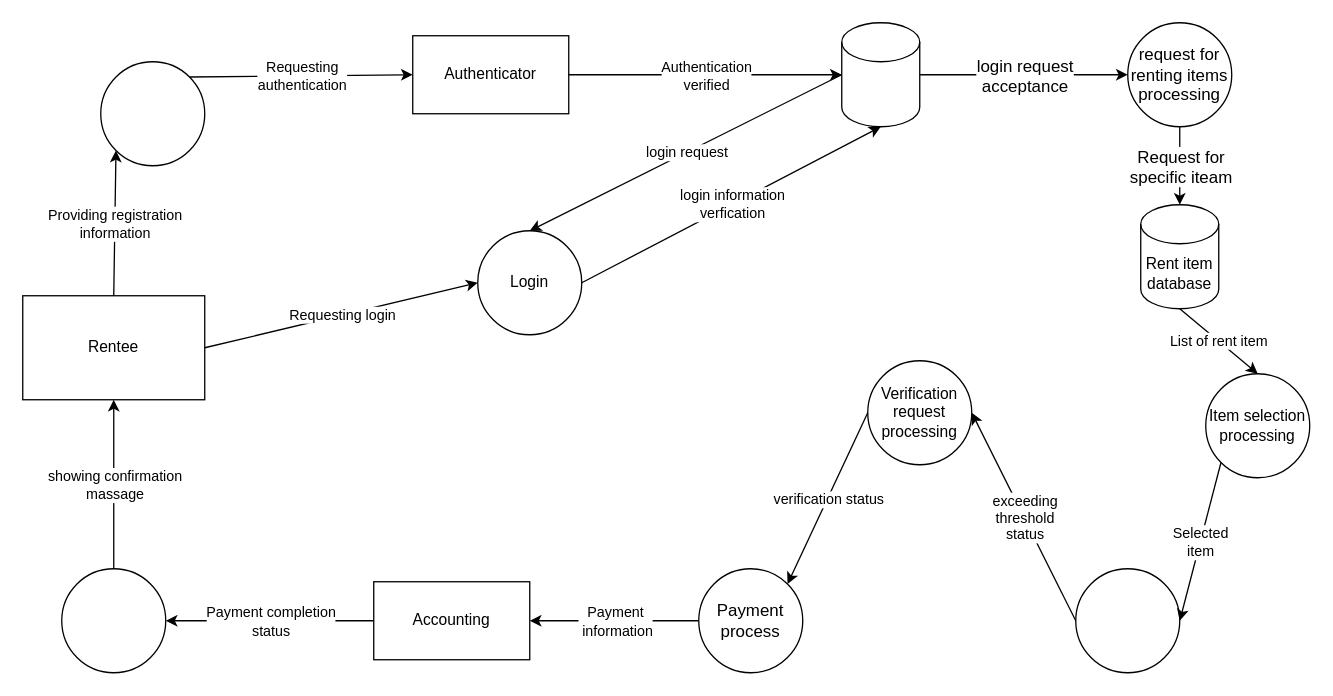
The diagram is 1333 pixels wide and 696 high, and some of its shapes have lost their labels. Each missing label, with the centre of its shape:
"Checking threshold of selected item" belongs at point 1127,620.
"Confirmation massage generating" belongs at point 113,620.
"Registration information process" belongs at point 152,113.
"Rentee Information" belongs at point 880,74.
